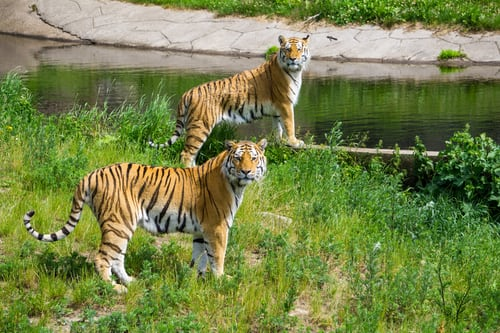tiger: (226, 138, 269, 196), (279, 34, 313, 75)
